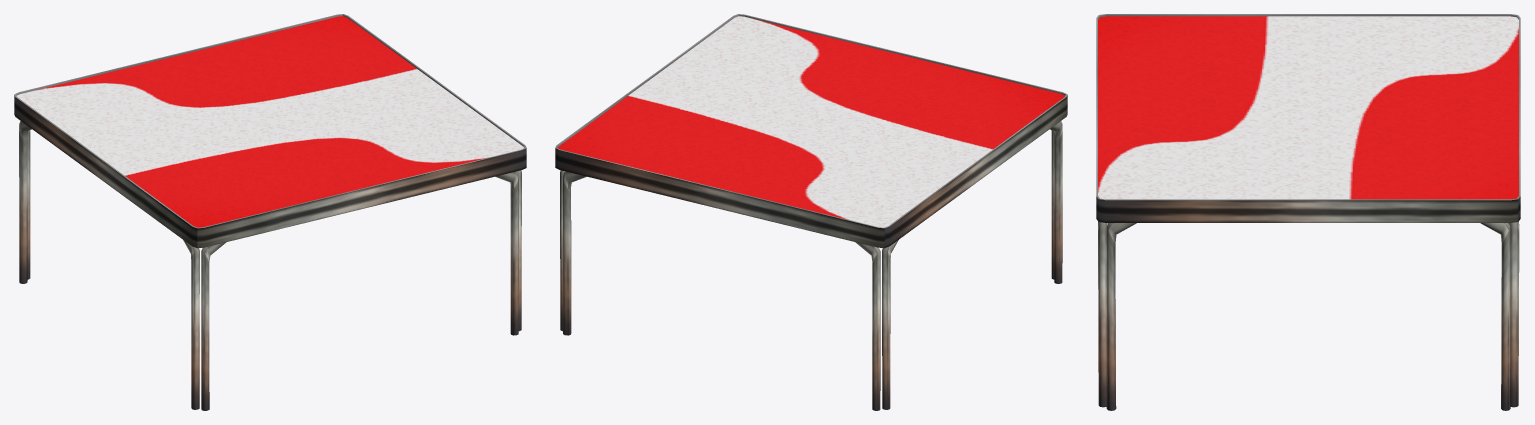
The model's file is Dining_Table_04.FBX.
3 renders of one model, left to right at view 1: azimuth 30°, elevation 25°; view 2: azimuth 150°, elevation 25°; view 3: azimuth 270°, elevation 25°, orthographic. The views are drawn at different scales.
Visible parts, largest first — view 1: Dining_Table; view 2: Dining_Table; view 3: Dining_Table.
Boxes of the visible parts, x1,y1,x2,y2 form: Dining_Table: (14, 14, 526, 410); Dining_Table: (555, 14, 1067, 410); Dining_Table: (1096, 14, 1520, 410).
Size of the model in its own units: 264 by 140 by 254.
